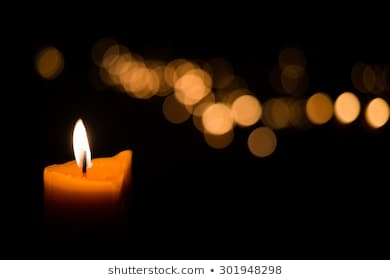Fire: (71, 117, 95, 174)
